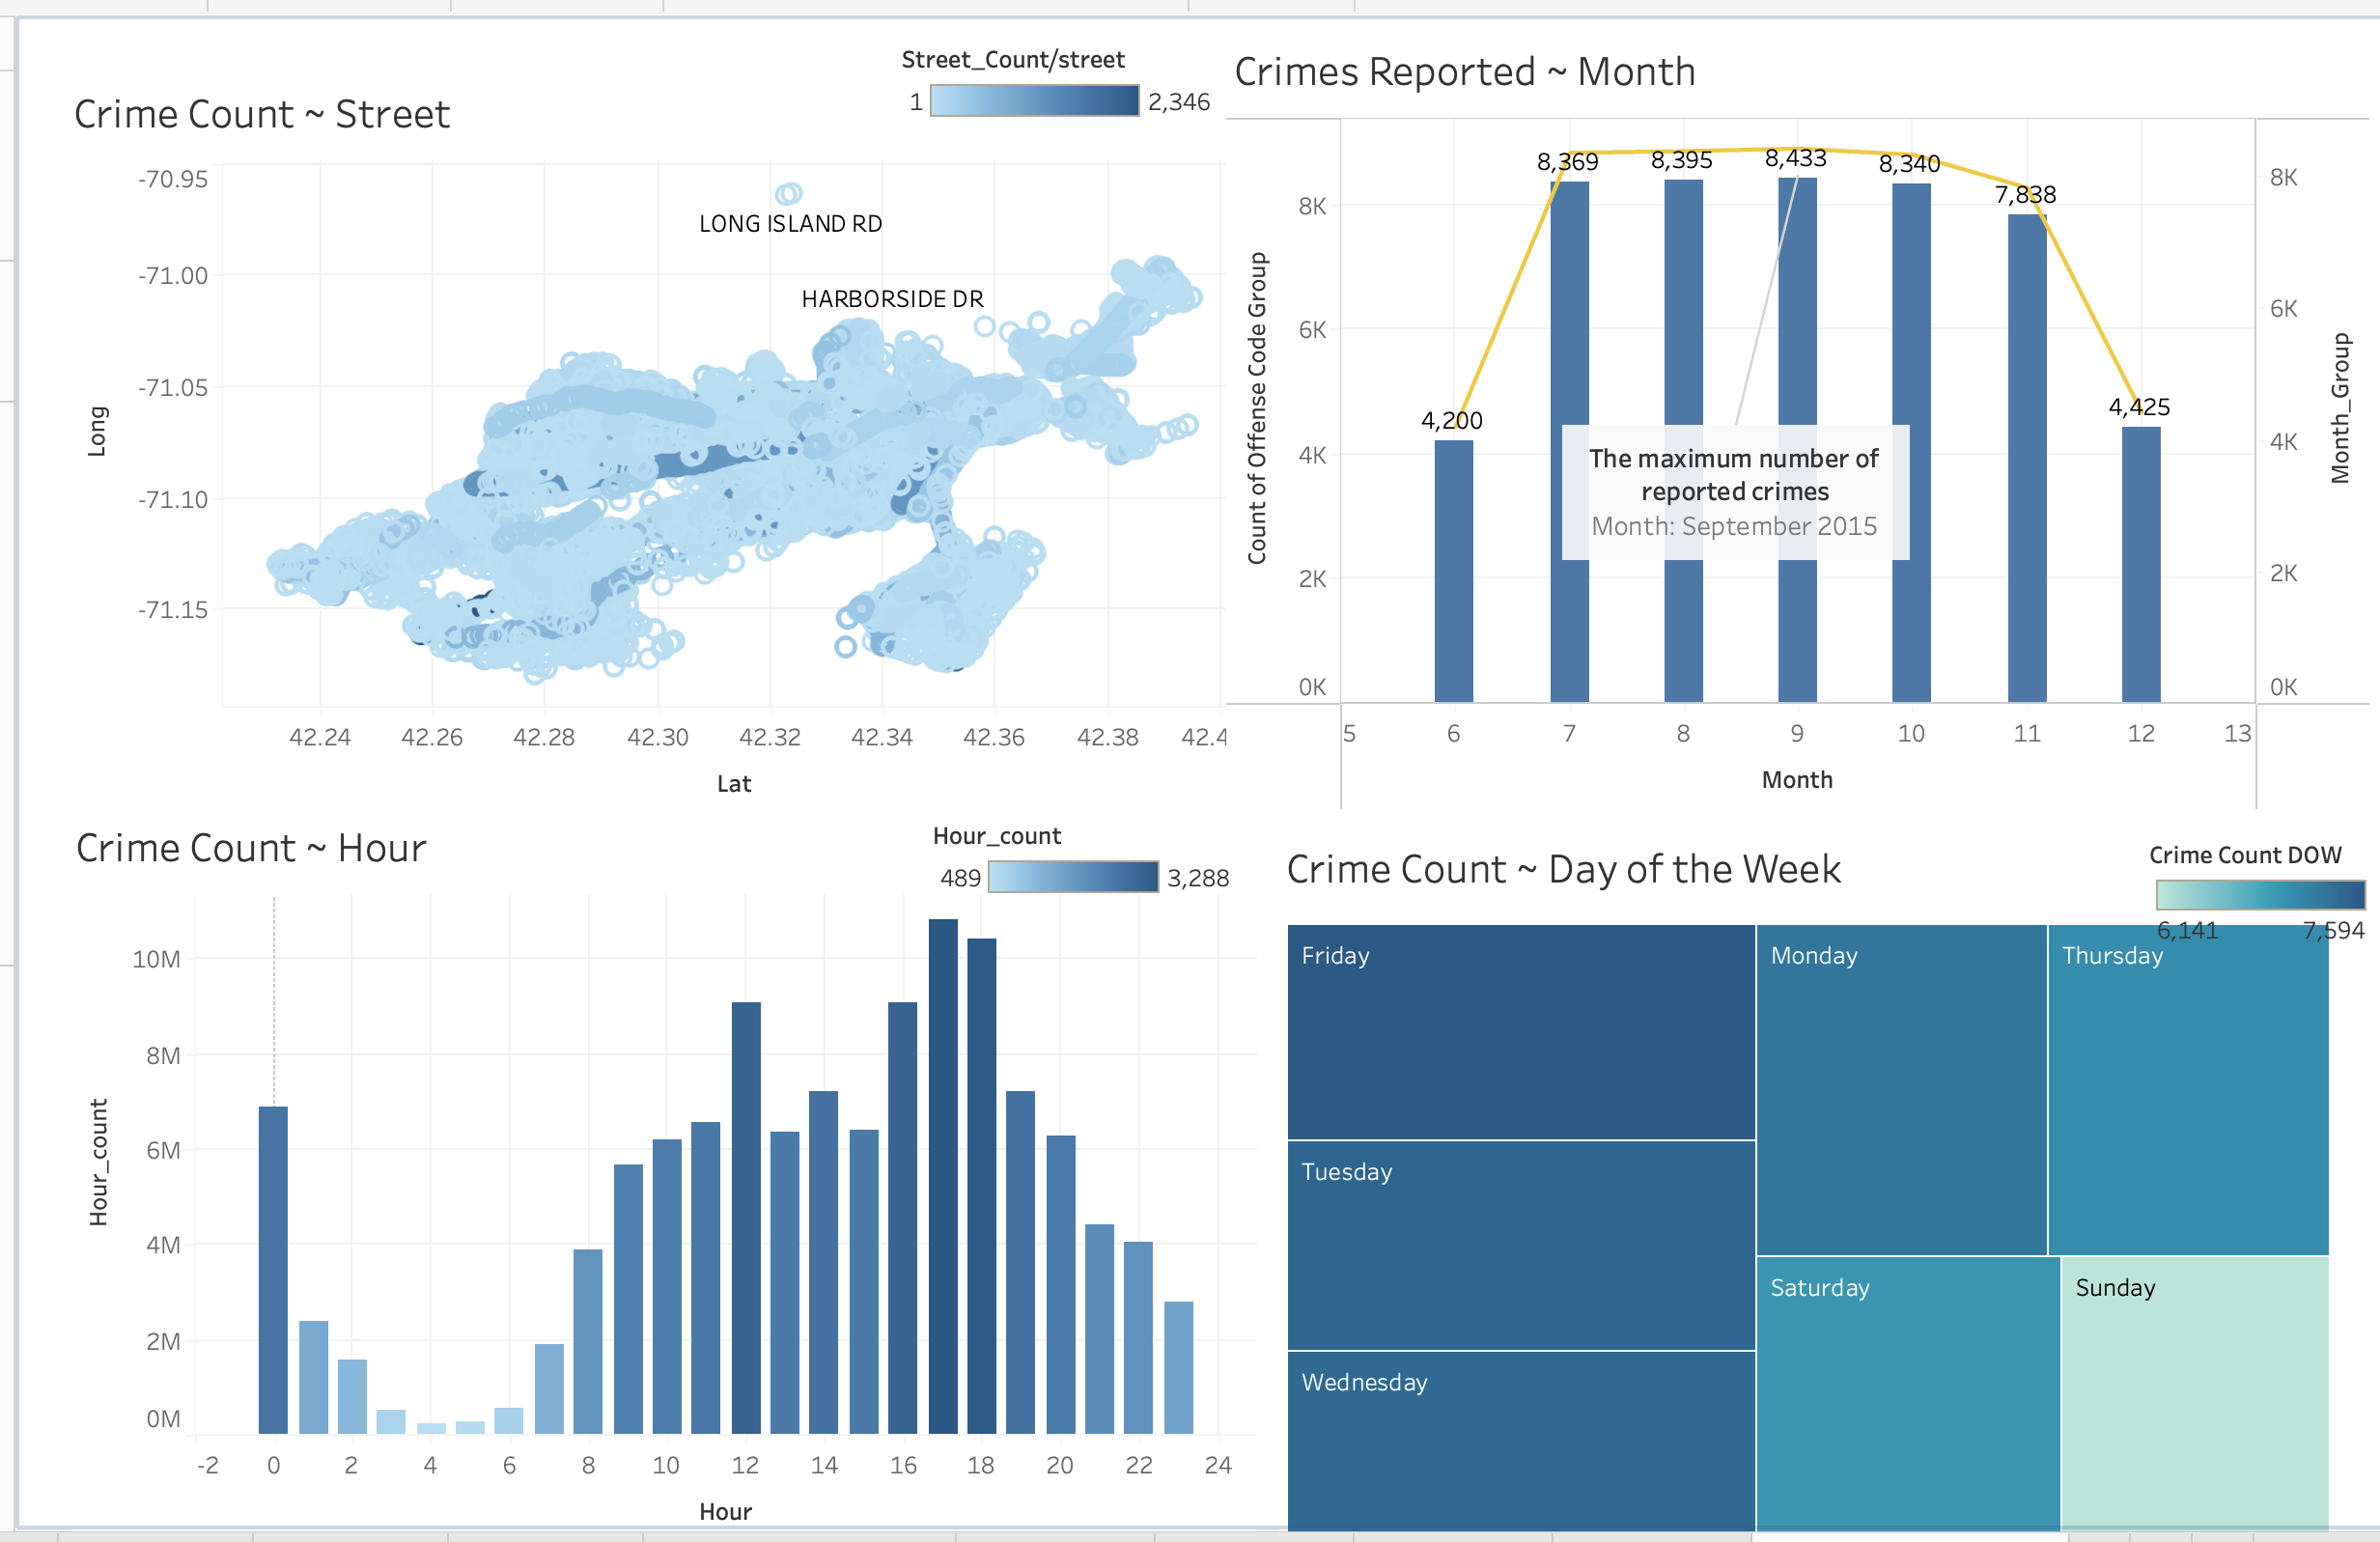

The dashboard page shown, as its layout file describes it:
{"tool":"tableau","page":{"name":"Exploratory Dashbaord","canvas":[1000,1000],"units":"permille","ordinal":1},"visuals":[{"type":"filter","title":"Exploratory_V1","param":"[federated.0di58fr1le9t7a1etw61s1hhy73u].[none:OFFENSE_CODE_GROUP:nk]","box":[332.7,16,363.3,97.1]},{"type":"worksheet","title":"Exploratory_V1","mark":"Automatic","rows":["Lat"],"cols":["Long"],"box":[5,110.4,478.2,470.7]},{"type":"worksheet","title":"Exploratory_V2","mark":"Automatic","rows":["OFFENSE_CODE_GROUP"],"cols":["DAY_OF_WEEK"],"box":[503.8,115.7,487.5,472.1]},{"type":"worksheet","title":"Exploratory_V4","mark":"Automatic","cols":["OFFENSE_CODE_GROUP"],"box":[5.6,590.4,475.7,397.6]},{"type":"filter","title":"Exploratory_V3","param":"[federated.0di58fr1le9t7a1etw61s1hhy73u].[none:STREET:nk]","box":[874.5,599.7,110.5,86.4]},{"type":"filter","title":"Exploratory_V4","param":"[federated.0di58fr1le9t7a1etw61s1hhy73u].[none:OFFENSE_CODE_GROUP:nk]","box":[366.4,601.1,104.9,93.1]},{"type":"worksheet","title":"Exploratory_V3","mark":"Bar","rows":["OFFENSE_CODE_GROUP","OFFENSE_CODE_GROUP"],"cols":["OFFENSE_CODE_GROUP","OFFENSE_CODE_GROUP"],"box":[503.8,601.1,485,388.3]},{"type":"legend","title":"Exploratory_V4","param":"[federated.0di58fr1le9t7a1etw61s1hhy73u].[Multiple Values]","box":[370.8,696.8,98.6,101.1]}]}

Visuals, with their boxes on the dashboard's canvas, which has no fixed pixel size, in thousandths of its width and height (x1, y1, x2, y2). These are canvas units, not pixel positions in the 2380x1542 screenshot, which may show the page scaled, cropped or inside an application window:
"Exploratory_V1" filter: bbox(333, 16, 696, 113)
"Exploratory_V1" worksheet: bbox(5, 110, 483, 581)
"Exploratory_V2" worksheet: bbox(504, 116, 991, 588)
"Exploratory_V4" worksheet: bbox(6, 590, 481, 988)
"Exploratory_V3" filter: bbox(874, 600, 985, 686)
"Exploratory_V4" filter: bbox(366, 601, 471, 694)
"Exploratory_V3" worksheet (Bar marks): bbox(504, 601, 989, 989)
"Exploratory_V4" legend: bbox(371, 697, 469, 798)
